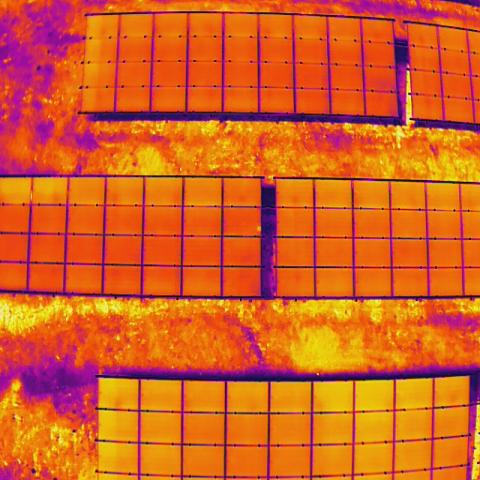fault: (256, 225, 262, 233)
